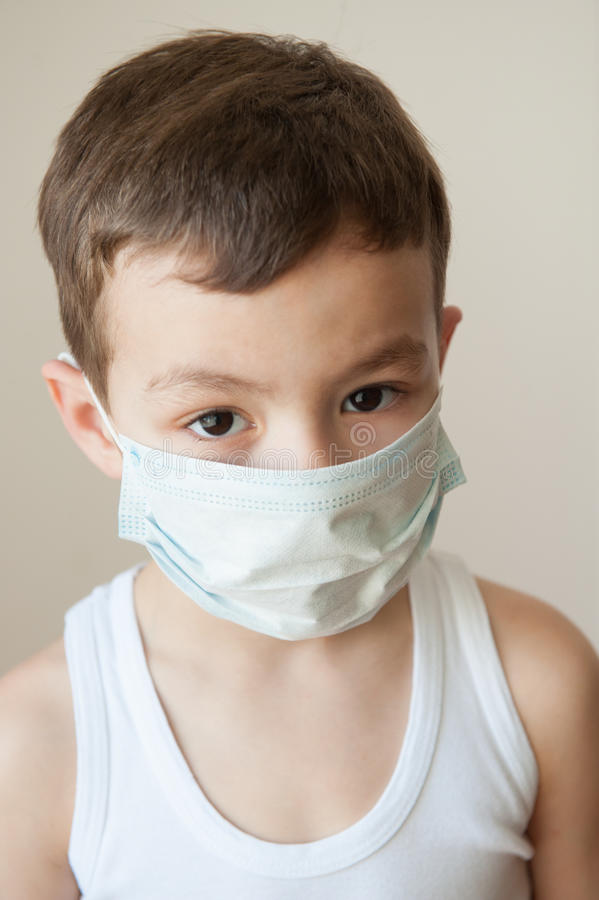surgical: (95, 410, 487, 646)
